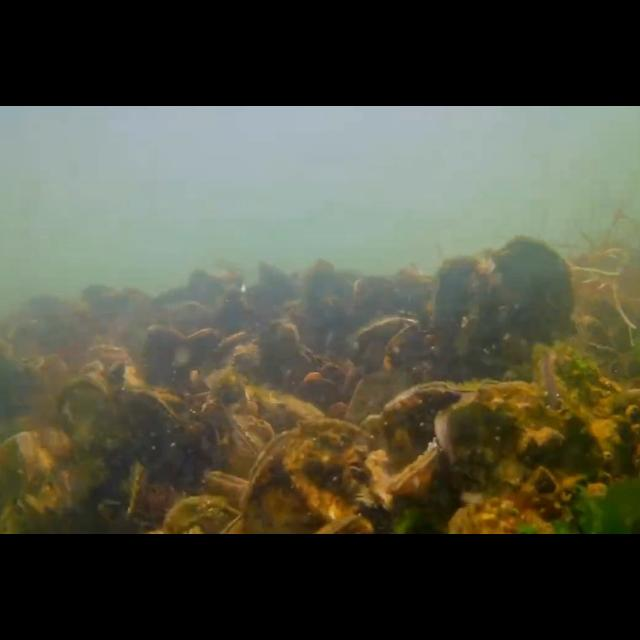Oyster-Closed: (360, 378, 500, 534), (42, 376, 150, 534), (241, 418, 387, 532), (114, 390, 226, 534), (486, 237, 574, 385), (436, 255, 494, 372), (227, 412, 276, 476)
Oyster-Open: (435, 382, 607, 534), (534, 343, 634, 535), (352, 316, 422, 376), (388, 446, 442, 496), (203, 466, 251, 512)
